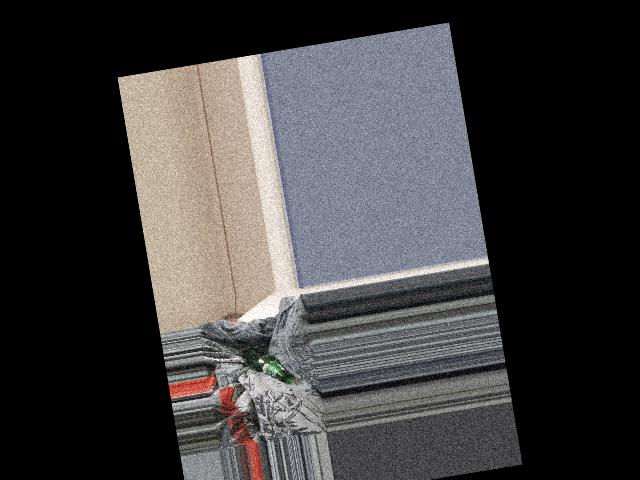beer: (242, 342, 291, 388)
